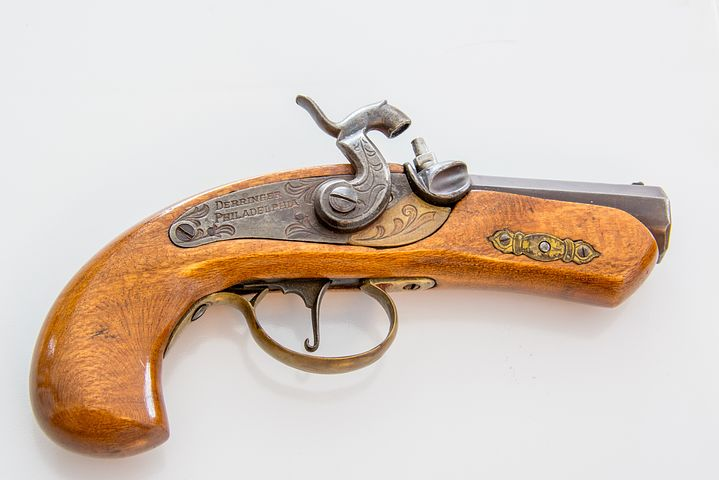gun: (24, 90, 678, 463)
